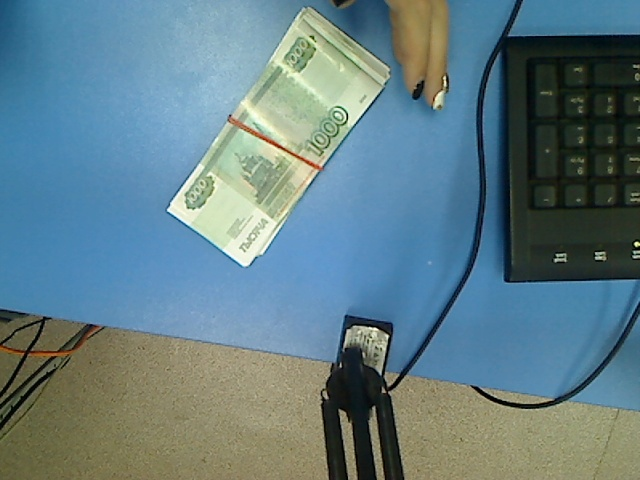banknotes: (165, 4, 393, 270)
